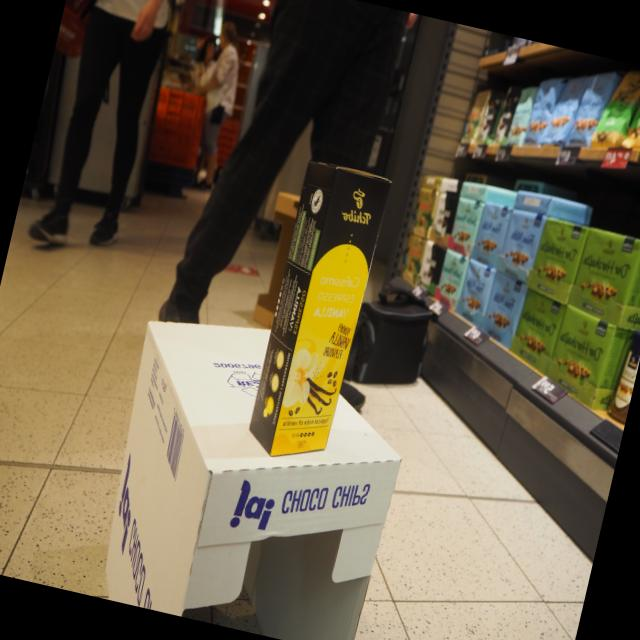Simo Es Vanilla: (267, 163, 393, 455)
